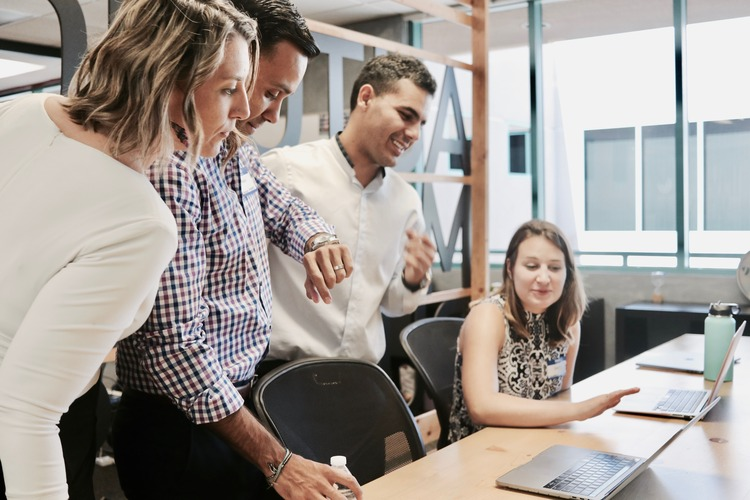without_mask: (186, 49, 246, 158), (229, 48, 295, 139), (376, 91, 429, 168), (517, 248, 567, 309)
